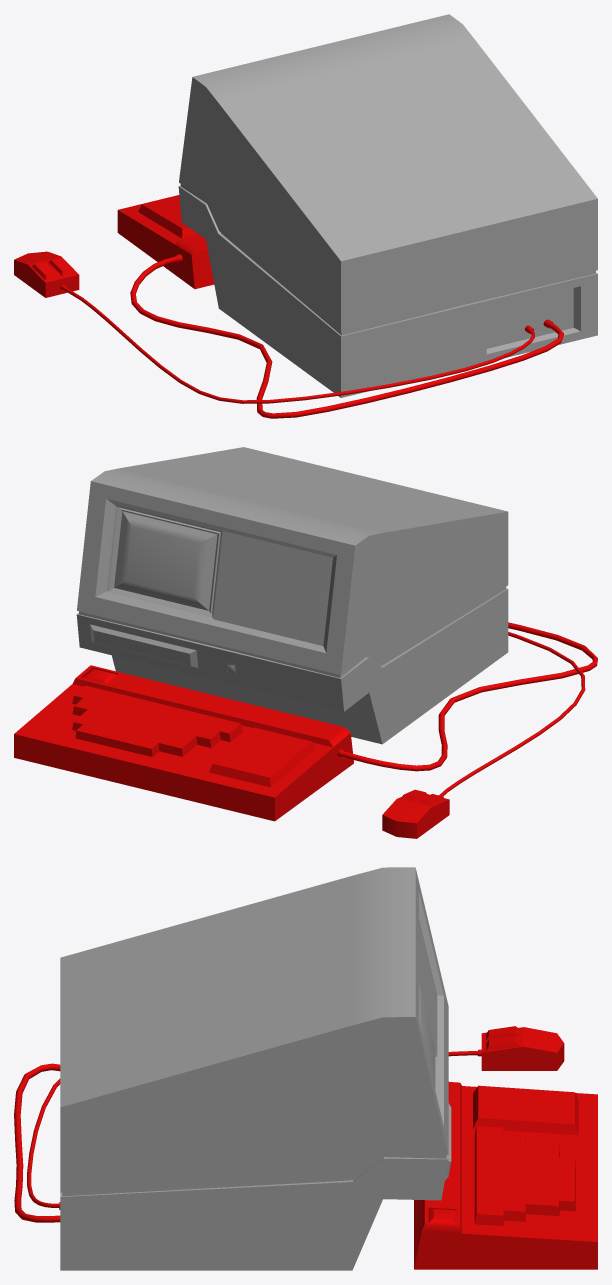
The model's file is OldComputer.fbx.
3 views of the same model, one above another, from view 1: azimuth 30°, elevation 25°; view 2: azimuth 150°, elevation 25°; view 3: azimuth 270°, elevation 25° (orthographic). The views are drawn at different scales.
Parts seen in each view (by area): view 1: Old_Computer, Keyboard_LP, Mouse; view 2: Old_Computer, Keyboard_LP, Mouse; view 3: Old_Computer, Keyboard_LP, Mouse.
Boxes of the visible parts, left/top/right/bottom form: Old_Computer: left=178, top=14, right=597, bottom=397; Keyboard_LP: left=117, top=195, right=563, bottom=418; Mouse: left=14, top=251, right=534, bottom=403; Old_Computer: left=76, top=447, right=508, bottom=744; Keyboard_LP: left=14, top=622, right=597, bottom=821; Mouse: left=382, top=632, right=585, bottom=838; Old_Computer: left=60, top=867, right=451, bottom=1270; Keyboard_LP: left=14, top=1063, right=597, bottom=1269; Mouse: left=27, top=1026, right=564, bottom=1209.
Bounding box in the file's own units: 73.73 × 39.79 × 83.02.
